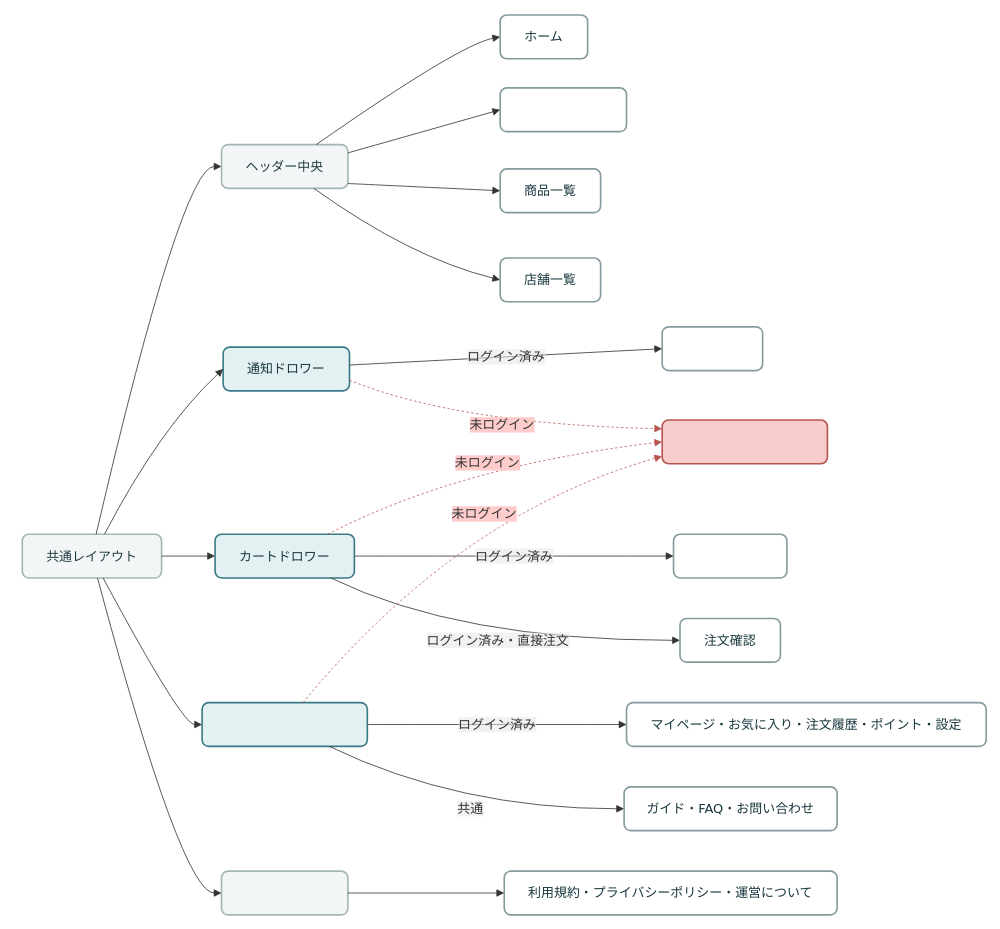
Some shapes in this 1000 by 929 pixel diagram are drawn without their labels. The shapes that lost their labels are listed below. From the top down, each one's box as (x1, y1, x2, y2) in pixels, then its label:
(499, 87, 627, 132): 地図で探そう
(661, 326, 763, 371): 通知一覧
(661, 419, 828, 464): ログイン・新規登録
(672, 533, 787, 578): カート全体
(201, 701, 368, 747): アカウントドロワー
(220, 870, 348, 915): 共通フッター
